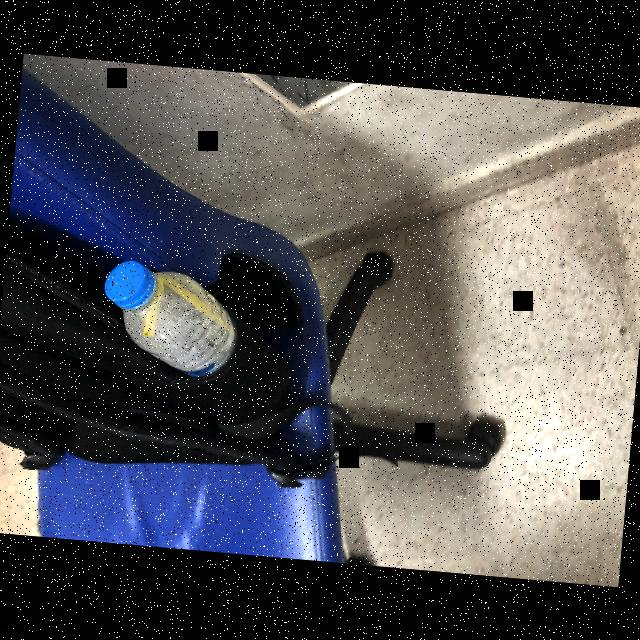plastic_bottle: (90, 255, 253, 383)
plastic_bottle_cap: (99, 259, 152, 309)
straw: (140, 269, 236, 342)
